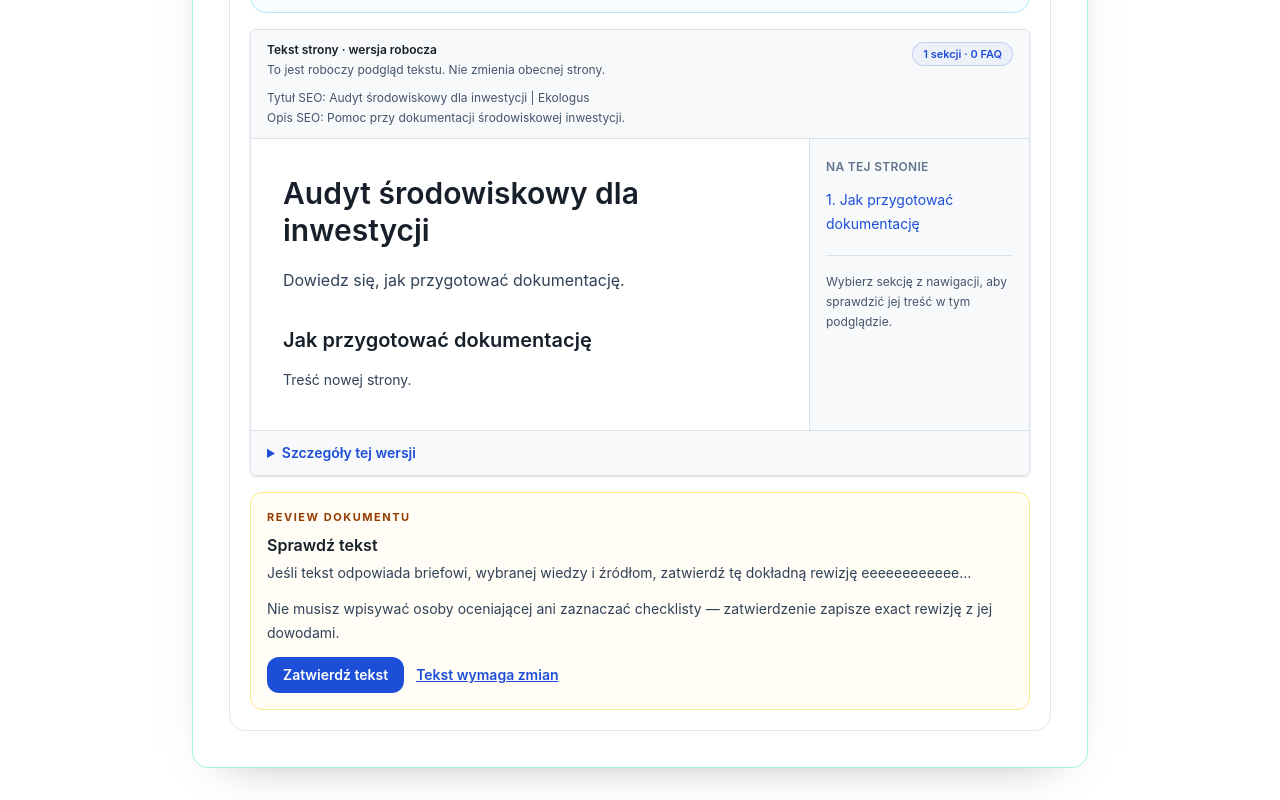
ContentWorkflowEntryPanel › surfaces a review write conflict with the API safe next step
(page scrolled)
Expected: the element with test id "new-page-revision-review" is shown, [250, 492, 1030, 710]
Click the button "Zatwierdź tekst" at (336, 675), box [267, 657, 404, 693]
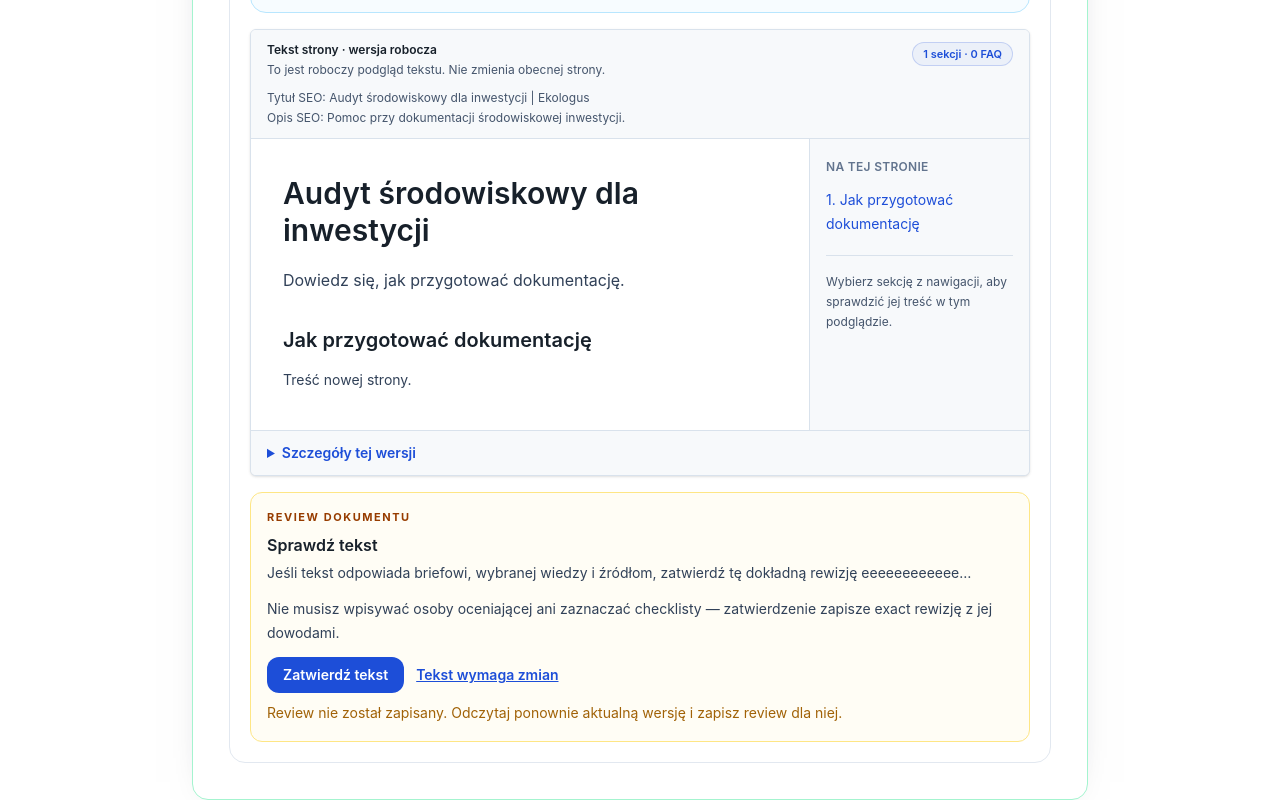
Now the text "Review nie został zapisany" is shown, box [267, 704, 451, 721]
Now the text "Odczytaj ponownie aktualną wersję i zapisz review dla niej." is shown, box [451, 704, 842, 721]
